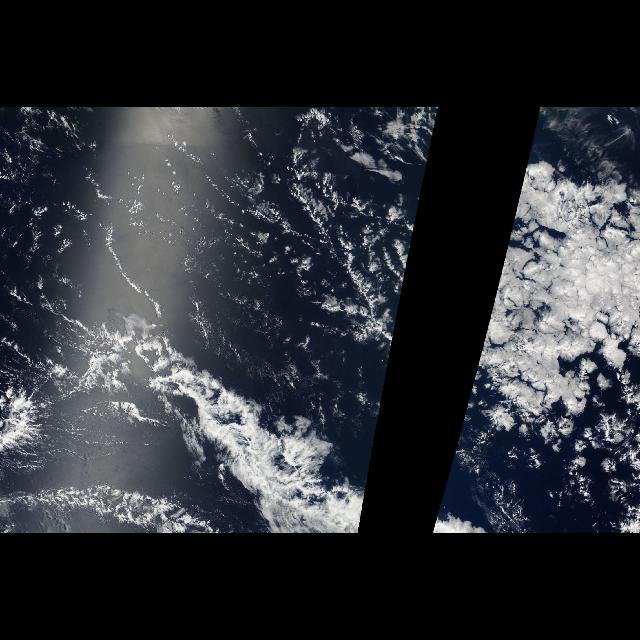Fish: (4, 311, 358, 534)
Flower: (480, 374, 634, 498)
